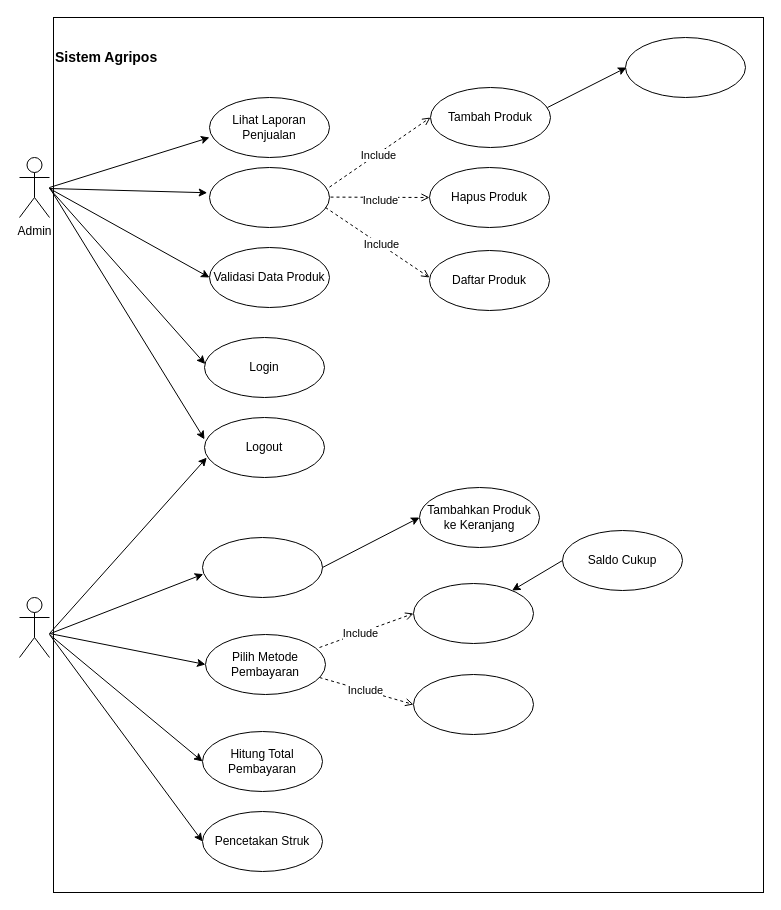
The diagram is 781 pixels wide and 910 high, and some of its shapes have lost their labels. Here are the shapes that lost their labels. From the top down, the box of each, then its label:
(624, 36, 746, 98): Update Produk
(208, 166, 330, 228): Kelola Produk
(202, 536, 322, 598): Buat Transaksi
(18, 596, 50, 658): Kasir
(412, 582, 534, 644): Pembayaran (E-Wallet)
(412, 674, 534, 734): Pembayaran (Tunai)
